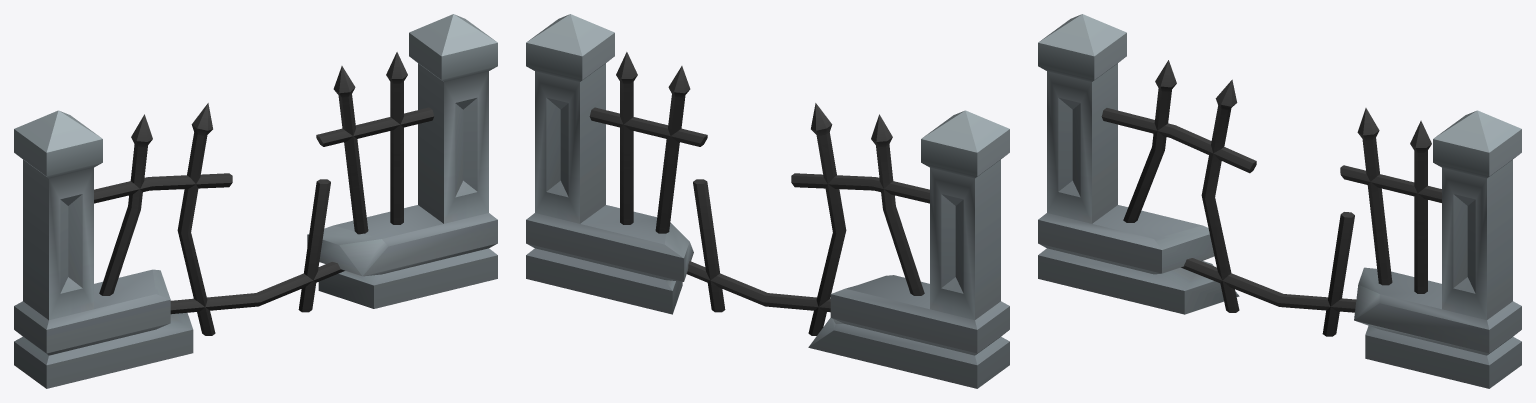
Rendered from kaykit-halloween-bits-fence-broken.glb.
The picture shows the model from 3 angles, left to right: view 1: azimuth 30°, elevation 25°; view 2: azimuth 150°, elevation 25°; view 3: azimuth 330°, elevation 25°; orthographic projection.
Visible parts, largest first — view 1: fence_broken; view 2: fence_broken; view 3: fence_broken.
Boxes of the visible parts, x1=… form: fence_broken: x1=14, y1=14, x2=497, y2=388; fence_broken: x1=526, y1=14, x2=1009, y2=388; fence_broken: x1=1038, y1=14, x2=1521, y2=388.
Size of the model in its own units: 4 by 2.2 by 0.5.
Materials: 1 (1 with a texture image).
